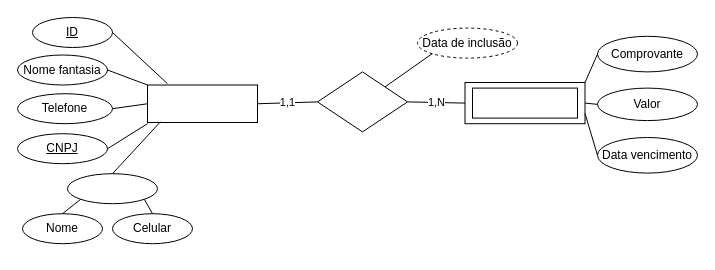
Image size: 715x270. Some labels were removed from this diagram. Each missing label, with the centre of its shape:
"Boleto" goes at point (525, 102).
"Empresa" goes at point (202, 103).
"Gera" goes at point (362, 101).
"Representante" goes at point (112, 188).
